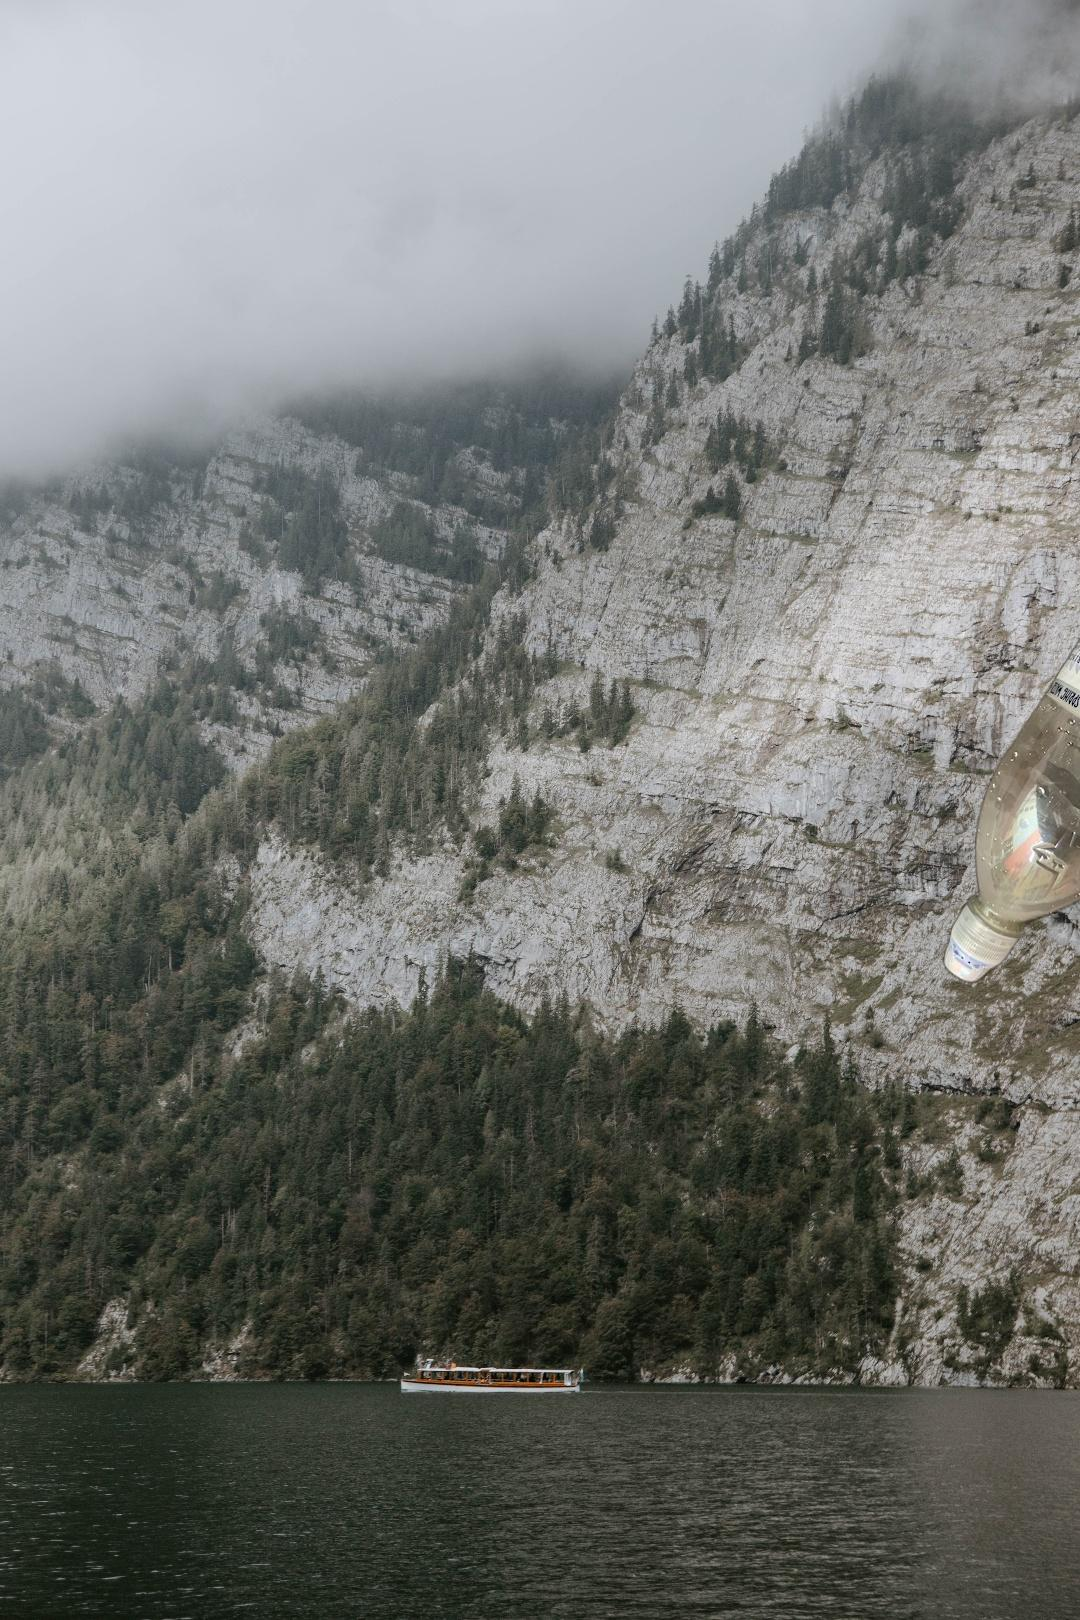plastic-bottles: (940, 503, 1080, 988)
